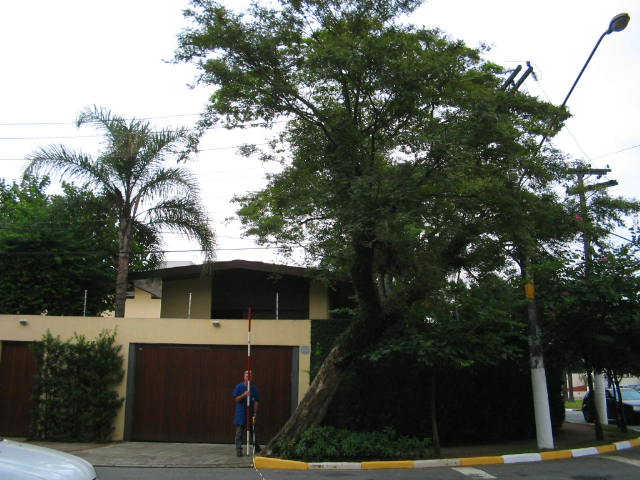crown: (164, 1, 611, 325)
stem: (260, 317, 400, 458)
stick: (239, 306, 255, 456)
tree: (162, 1, 610, 459)
